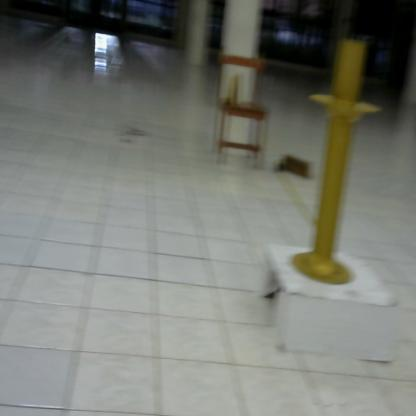pole: (287, 34, 389, 293)
